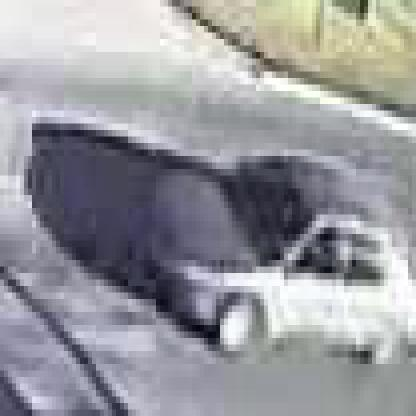car: (157, 151, 413, 372)
